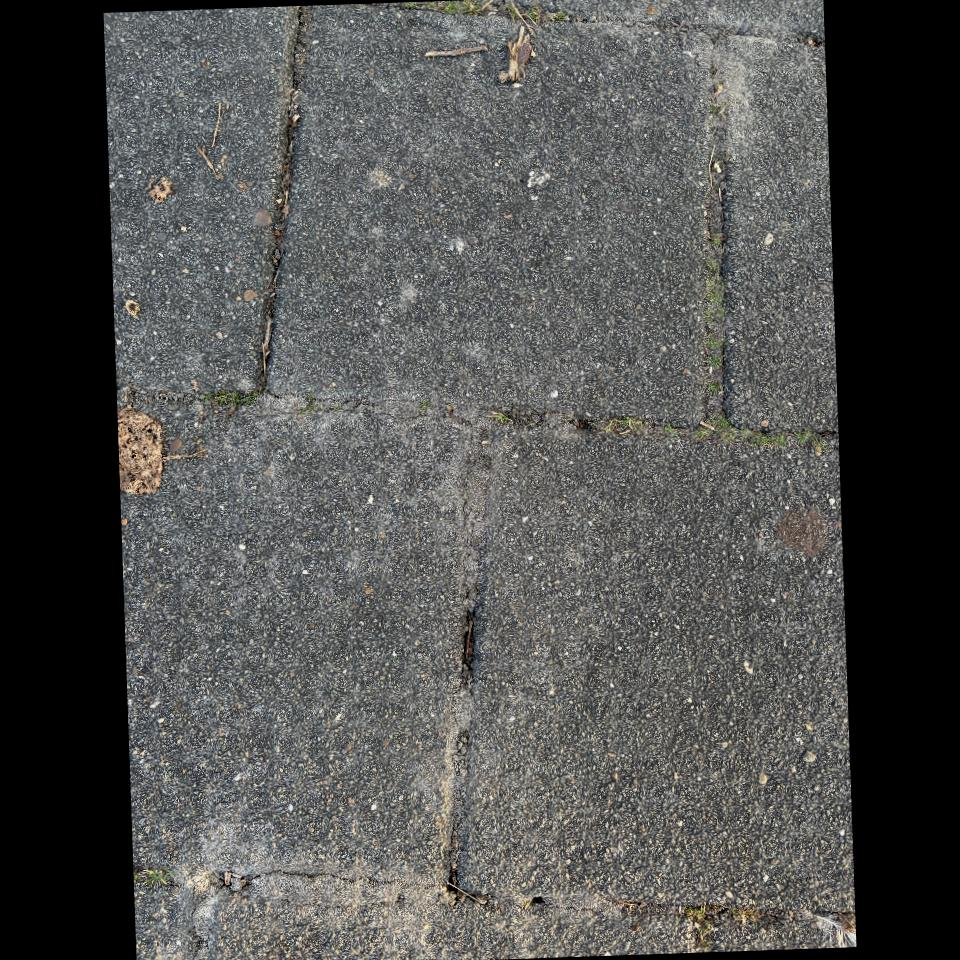weed: (599, 417, 644, 433), (693, 903, 711, 932), (143, 869, 169, 887), (489, 412, 513, 424), (705, 336, 726, 349), (706, 291, 727, 304), (812, 435, 829, 451), (715, 415, 731, 431), (662, 422, 678, 436), (707, 355, 723, 369), (774, 430, 788, 446), (506, 4, 518, 22), (708, 255, 720, 272), (442, 1, 457, 14), (707, 382, 724, 393), (696, 427, 709, 441), (792, 432, 807, 444), (418, 400, 430, 413), (163, 867, 174, 881), (714, 283, 727, 293), (703, 314, 715, 324), (715, 307, 727, 317), (803, 428, 816, 437), (528, 8, 537, 21), (710, 275, 724, 283), (759, 434, 770, 444), (723, 433, 735, 442), (202, 393, 215, 401), (240, 396, 253, 404), (713, 427, 723, 437), (707, 413, 718, 422), (709, 240, 720, 249), (234, 394, 241, 407), (705, 280, 714, 290), (729, 425, 738, 434), (738, 428, 748, 436), (307, 393, 315, 403), (306, 406, 316, 414), (424, 2, 437, 8), (555, 12, 565, 19), (403, 2, 417, 7), (751, 439, 759, 447), (767, 435, 775, 443), (687, 907, 695, 915), (219, 397, 227, 405), (300, 408, 308, 416), (711, 105, 717, 115), (754, 432, 763, 438), (134, 875, 140, 883), (333, 404, 339, 412), (231, 392, 238, 398), (710, 234, 718, 239), (248, 395, 256, 400), (720, 248, 725, 254), (704, 947, 709, 952), (702, 942, 709, 945), (817, 919, 821, 924), (724, 100, 728, 104), (720, 81, 723, 85)
